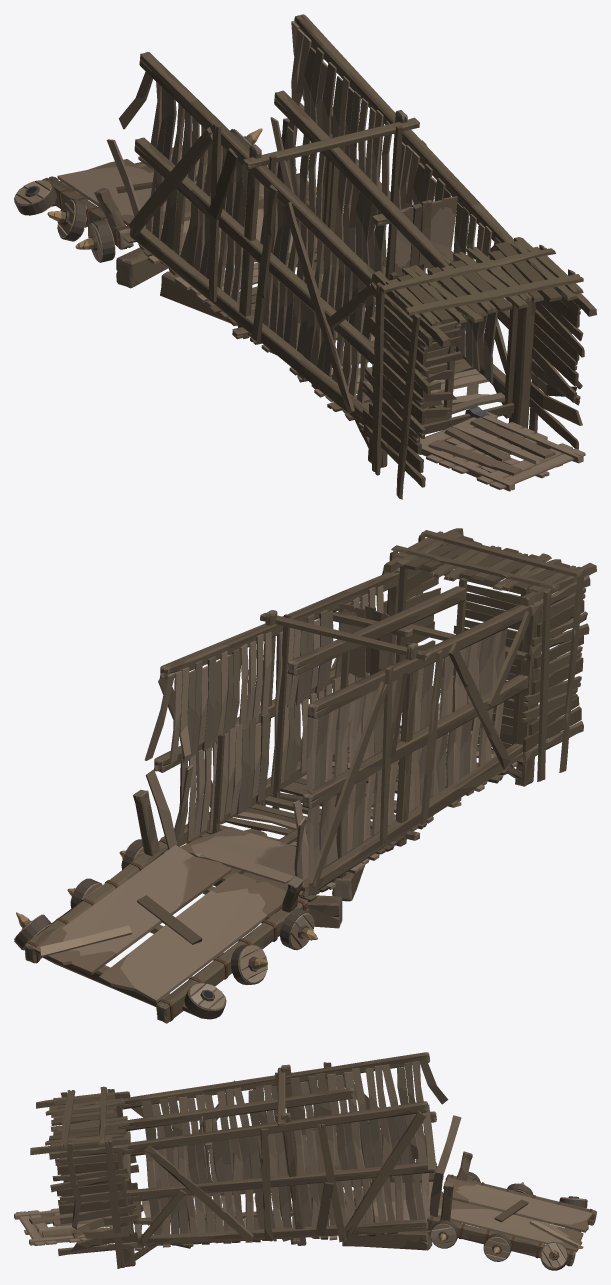
The model's file is env_siege_fallen.gltf.
3 views of the same model, one above another, from view 1: azimuth 30°, elevation 25°; view 2: azimuth 150°, elevation 25°; view 3: azimuth 270°, elevation 25° (orthographic). The views are drawn at different scales.
Parts seen in each view (by area): view 1: env_siege_fallen; view 2: env_siege_fallen; view 3: env_siege_fallen.
Boxes of the visible parts, <box> form: env_siege_fallen: <box>14,14,596,499</box>; env_siege_fallen: <box>14,528,596,1023</box>; env_siege_fallen: <box>14,1052,596,1270</box>.
Bounding box in the file's own units: 6.55 × 6.5 × 20.08.
1 material, 1 textured.
